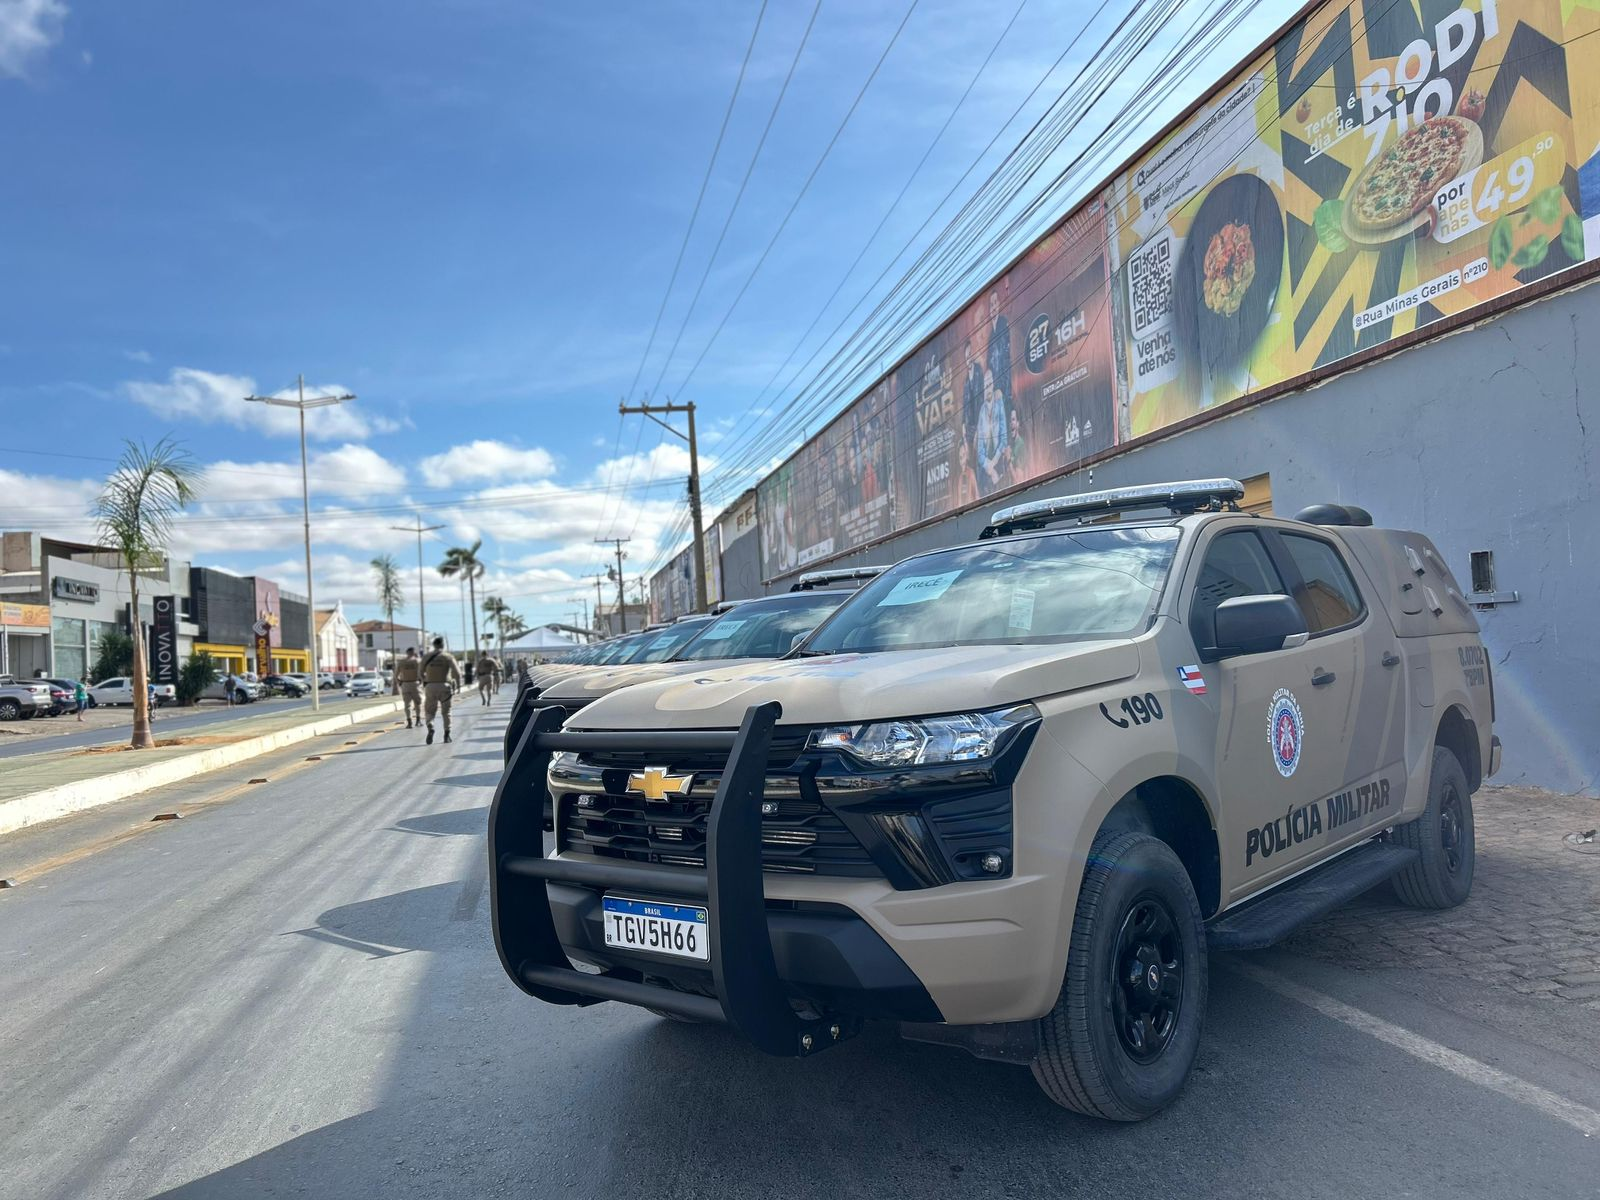car: (489, 458, 1512, 1129), (593, 892, 726, 949)
